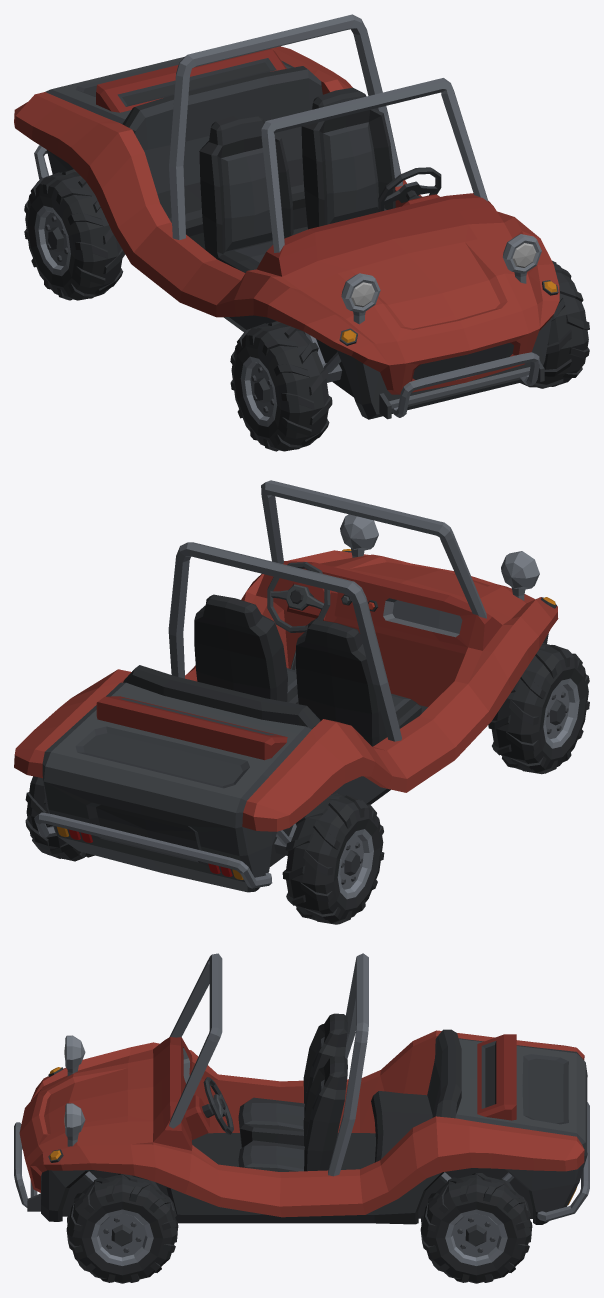
Rendered from SM_Veh_Buggy_01.glb.
3 renders of one model, top to bottom at view 1: azimuth 30°, elevation 25°; view 2: azimuth 150°, elevation 25°; view 3: azimuth 270°, elevation 25°, orthographic. The views are drawn at different scales.
Parts seen in each view (by area): view 1: SM_Veh_Buggy_01, SM_Veh_Buggy_01_Wheel_FR, SM_Veh_Buggy_01_Wheel_RR, SM_Veh_Buggy_01_Wheel_FL, SM_Veh_Buggy_01_Steering_Wheel; view 2: SM_Veh_Buggy_01, SM_Veh_Buggy_01_Wheel_RR, SM_Veh_Buggy_01_Wheel_FR, SM_Veh_Buggy_01_Wheel_RL, SM_Veh_Buggy_01_Steering_Wheel; view 3: SM_Veh_Buggy_01, SM_Veh_Buggy_01_Wheel_RL, SM_Veh_Buggy_01_Wheel_FL, SM_Veh_Buggy_01_Steering_Wheel.
Boxes of the visible parts, x1,y1,x2,y2 form: SM_Veh_Buggy_01: [14, 14, 559, 419]; SM_Veh_Buggy_01_Wheel_FR: [230, 321, 332, 451]; SM_Veh_Buggy_01_Wheel_RR: [24, 169, 125, 300]; SM_Veh_Buggy_01_Wheel_FL: [520, 260, 589, 388]; SM_Veh_Buggy_01_Steering_Wheel: [378, 167, 441, 211]; SM_Veh_Buggy_01: [14, 480, 558, 892]; SM_Veh_Buggy_01_Wheel_RR: [282, 793, 384, 924]; SM_Veh_Buggy_01_Wheel_FR: [488, 643, 589, 774]; SM_Veh_Buggy_01_Wheel_RL: [25, 776, 94, 861]; SM_Veh_Buggy_01_Steering_Wheel: [267, 562, 330, 632]; SM_Veh_Buggy_01: [14, 953, 589, 1224]; SM_Veh_Buggy_01_Wheel_RL: [420, 1173, 532, 1283]; SM_Veh_Buggy_01_Wheel_FL: [66, 1173, 178, 1283]; SM_Veh_Buggy_01_Steering_Wheel: [203, 1077, 233, 1134].
Size of the model in its own units: 2.07 by 1.79 by 3.94.
Materials: 1 (1 with a texture image).
